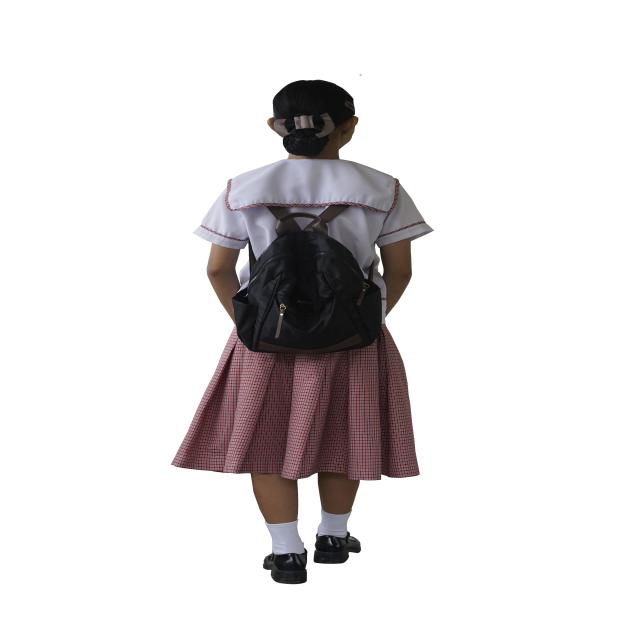shoes: (314, 532, 361, 564)
skirt: (172, 327, 419, 481)
